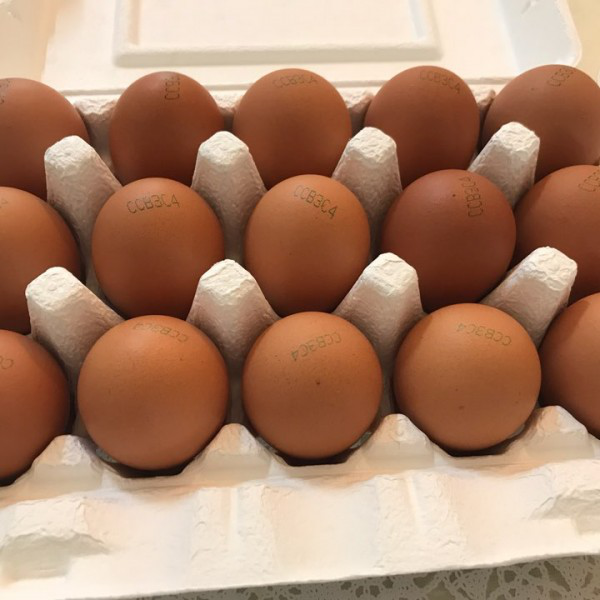egg: (3, 64, 600, 488)
